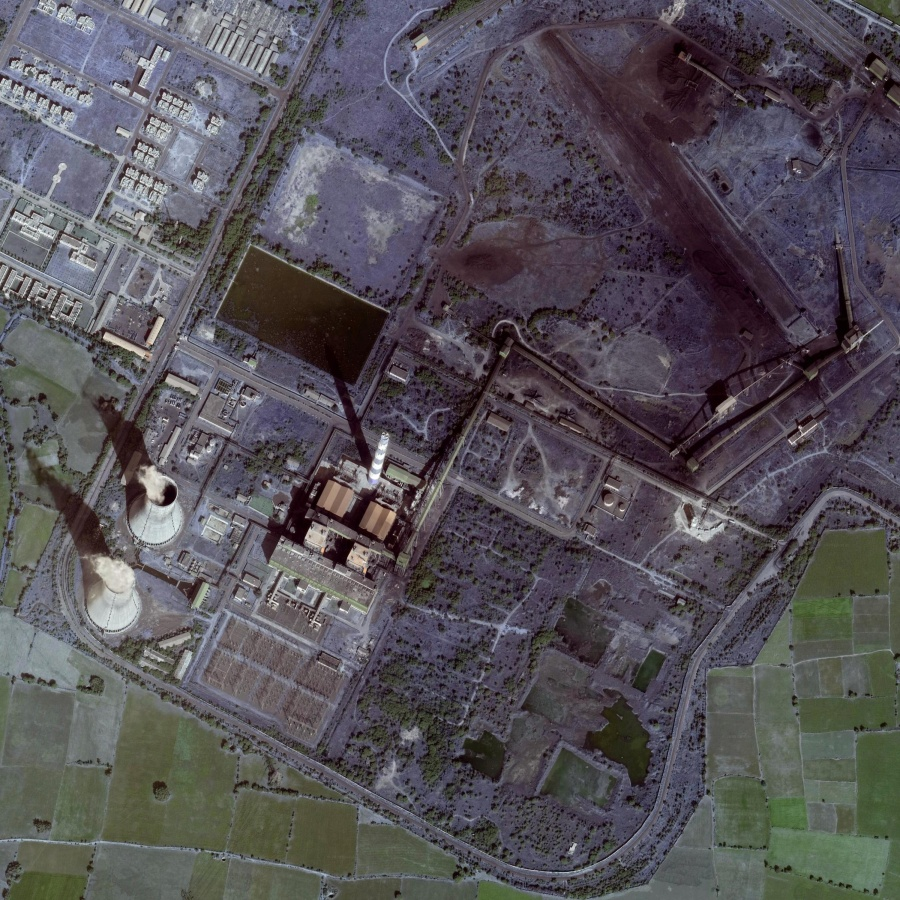PowerPlant: (52, 229, 489, 687)
